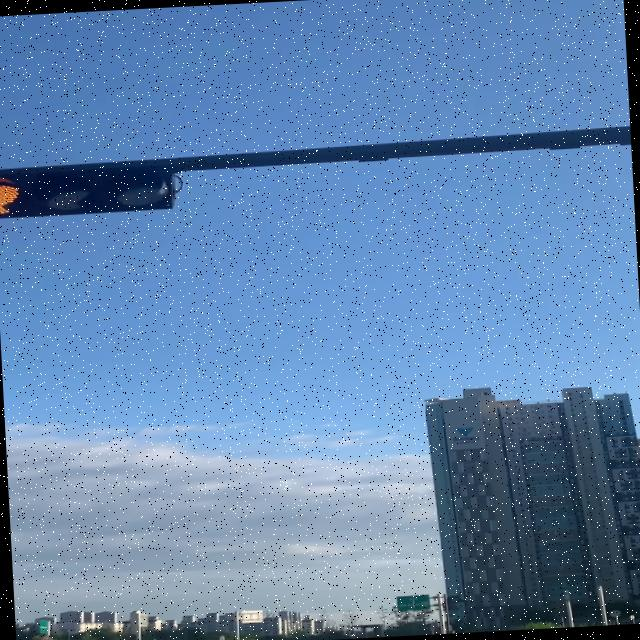yellow_light: (0, 163, 174, 218)
